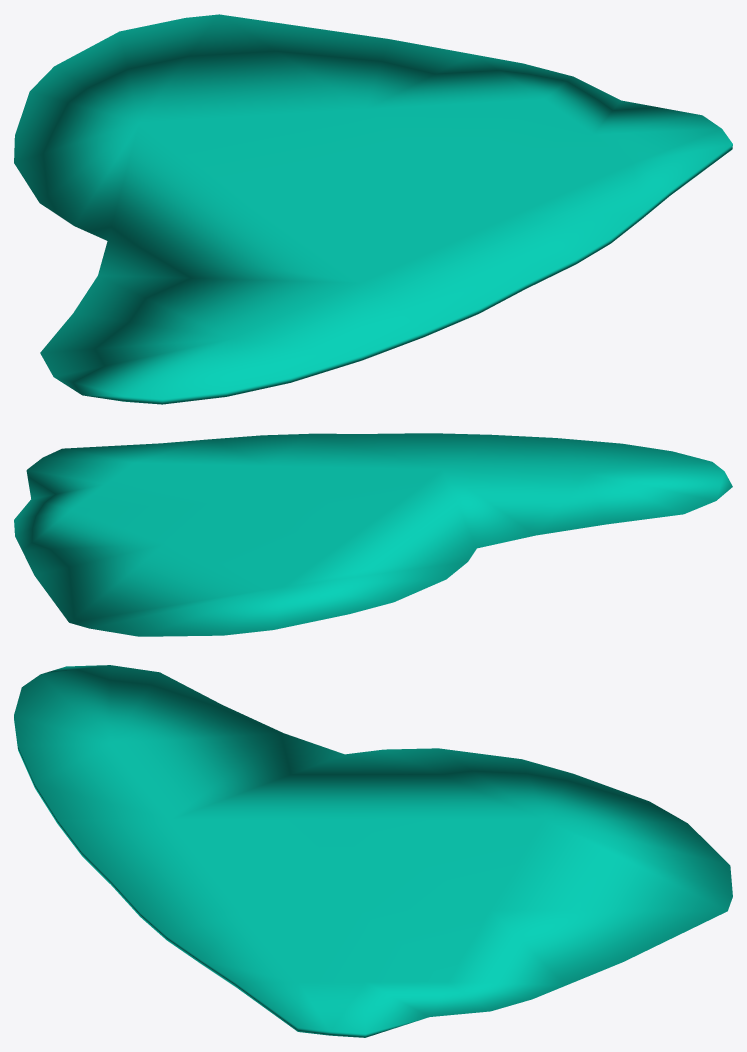
The model's file is rightWing.obj.
The picture shows the model from 3 angles, top to bottom: view 1: azimuth 30°, elevation 25°; view 2: azimuth 150°, elevation 25°; view 3: azimuth 270°, elevation 25°; orthographic projection. The views are drawn at different scales.
Visible parts, largest first — view 1: mon_wing.001; view 2: mon_wing.001; view 3: mon_wing.001.
Boxes of the visible parts, box(x1,y1,x2,y2) form: mon_wing.001: box(14, 14, 732, 404); mon_wing.001: box(14, 433, 732, 636); mon_wing.001: box(14, 665, 732, 1037).
Size of the model in its own units: 3.27 by 0.2011 by 2.99.
